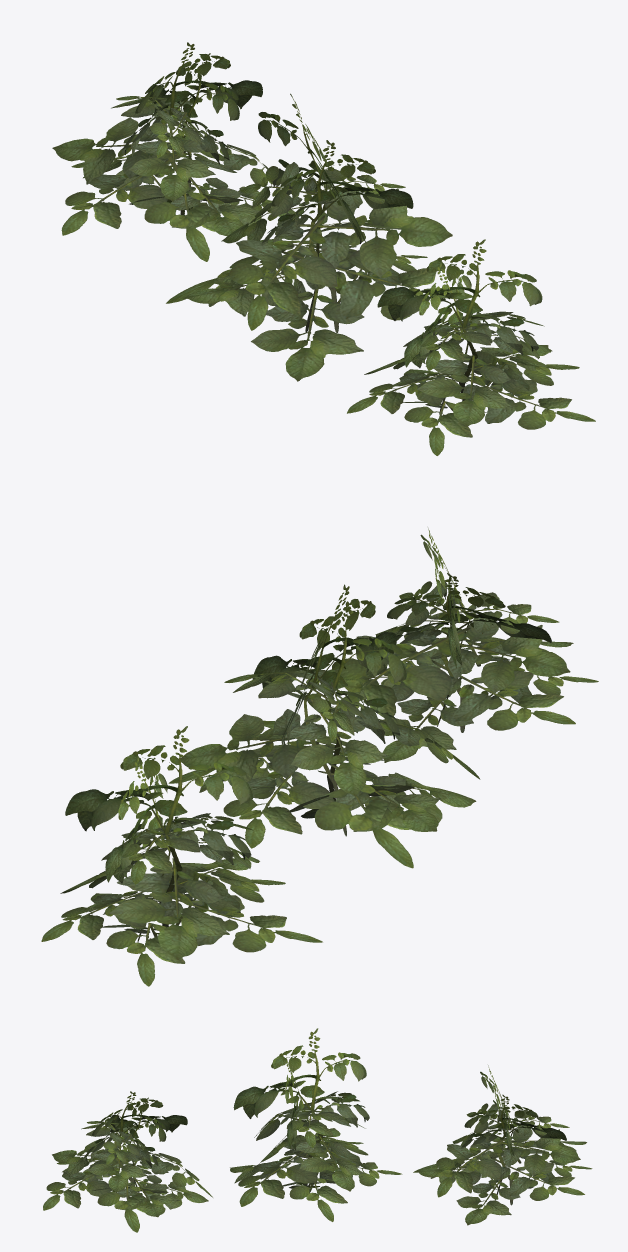
File: bg_anh_foliage_crops18_sm_ksy.FBX
3 renders of one model, top to bottom at view 1: azimuth 30°, elevation 25°; view 2: azimuth 150°, elevation 25°; view 3: azimuth 270°, elevation 25°, orthographic. The views are drawn at different scales.
Parts seen in each view (by area): view 1: bg_anh_foliage_crops18_sm_ksy; view 2: bg_anh_foliage_crops18_sm_ksy; view 3: bg_anh_foliage_crops18_sm_ksy.
Boxes of the visible parts, x1,y1,x2,y2 form: bg_anh_foliage_crops18_sm_ksy: [52, 42, 595, 455]; bg_anh_foliage_crops18_sm_ksy: [41, 528, 598, 986]; bg_anh_foliage_crops18_sm_ksy: [43, 1028, 592, 1232].
Size of the model in its own units: 65.56 by 53.51 by 171.
